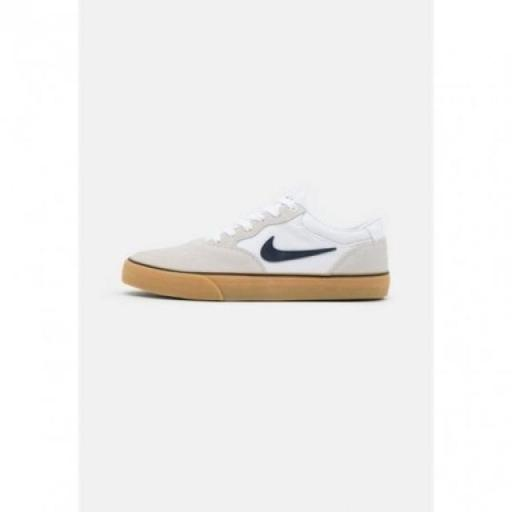Nike: (252, 234, 342, 270)
